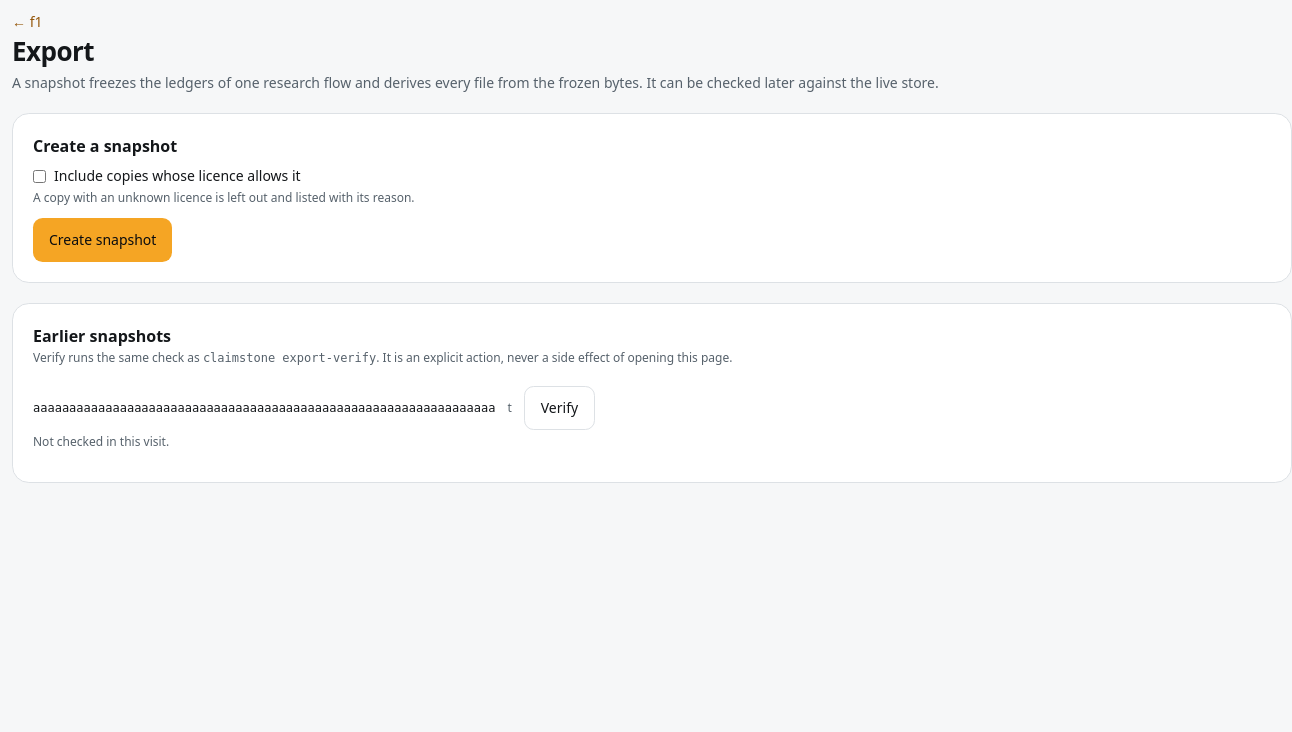
Test case: F6: Export › verifies one row, disabled while running, renders holds and problems
The image size is (1292, 732).
Click the button "Verify": (559, 408) [524,386,595,430]
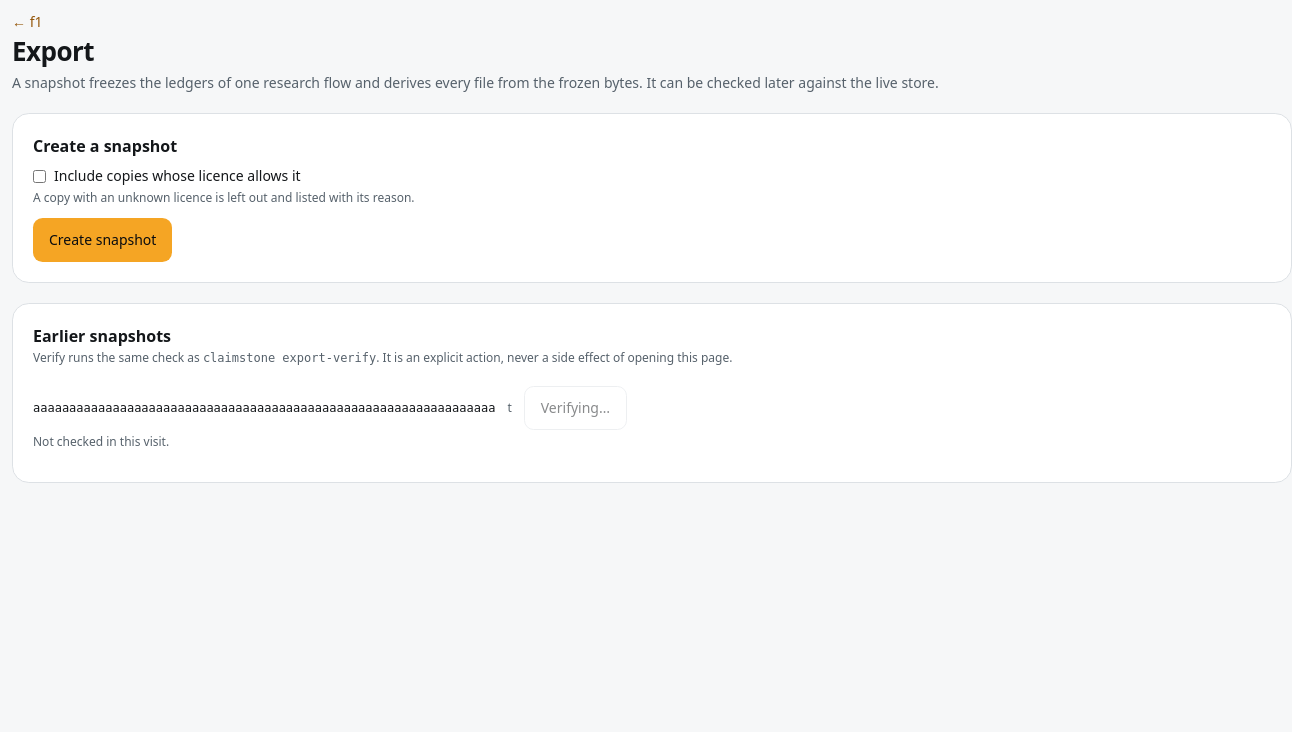
Now the button "Verifying…" is disabled
Click the button "Verifying…": (575, 408) [524,386,627,430]
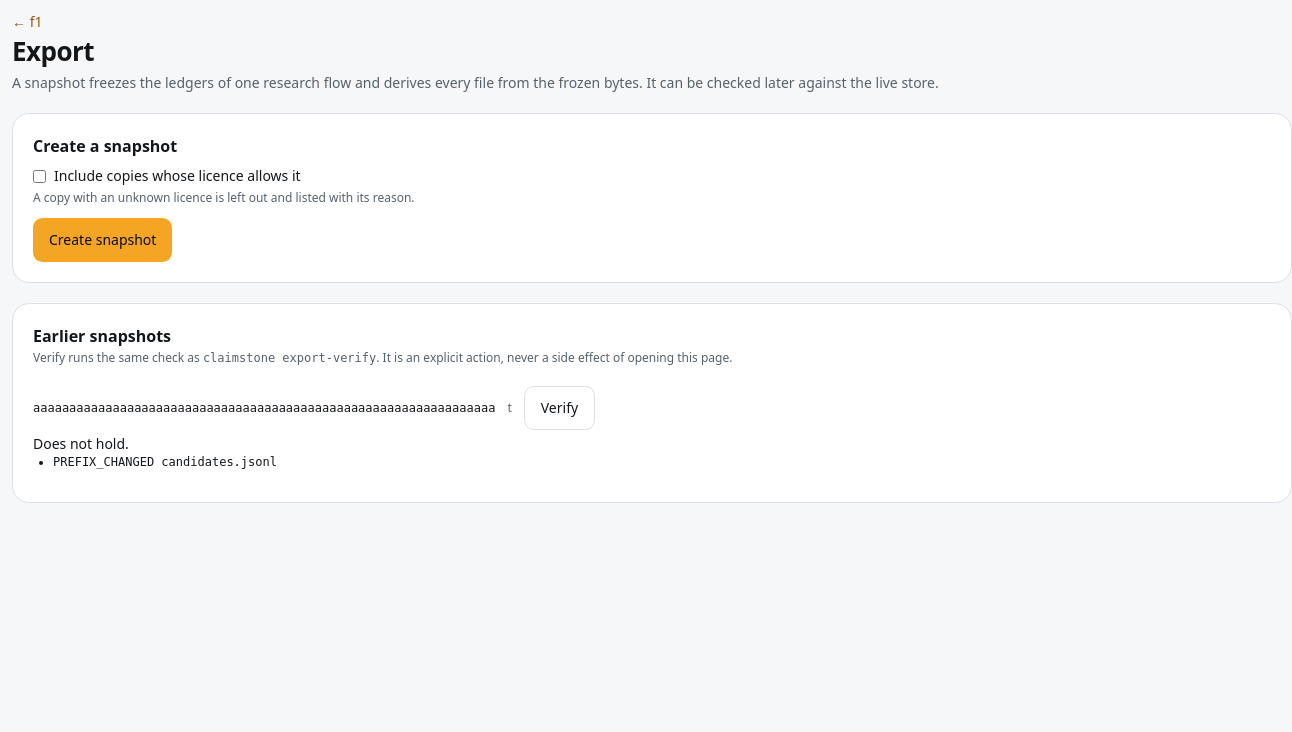
Now the text "Does not hold." is shown, box [33,434,129,453]
Now the list item "PREFIX_CHANGED candidates.jsonl" is shown, box [53,455,277,469]
